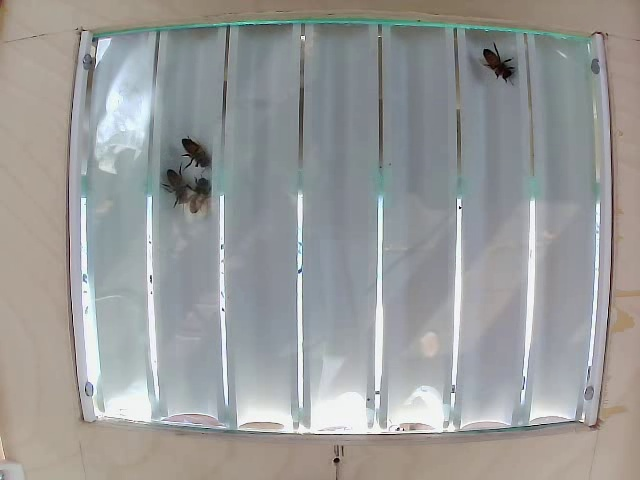bee: (469, 42, 516, 87), (184, 132, 221, 185), (182, 173, 214, 226), (160, 174, 190, 208)
